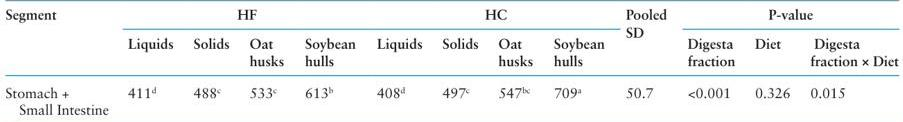table: (4, 5, 898, 117)
table column: (4, 5, 117, 117), (799, 5, 898, 117), (293, 5, 365, 117), (542, 5, 614, 117), (676, 5, 744, 117), (365, 5, 431, 117), (117, 5, 182, 117), (614, 5, 676, 117), (182, 5, 238, 117), (431, 5, 487, 117), (238, 5, 293, 117), (487, 5, 542, 117), (744, 5, 799, 117)
table column header: (4, 5, 898, 76)
table row: (4, 28, 898, 76), (4, 76, 898, 117), (4, 5, 898, 28)
table spanning cell: (4, 5, 117, 76), (365, 5, 614, 28), (117, 5, 365, 28), (676, 5, 898, 28), (614, 5, 676, 76)
